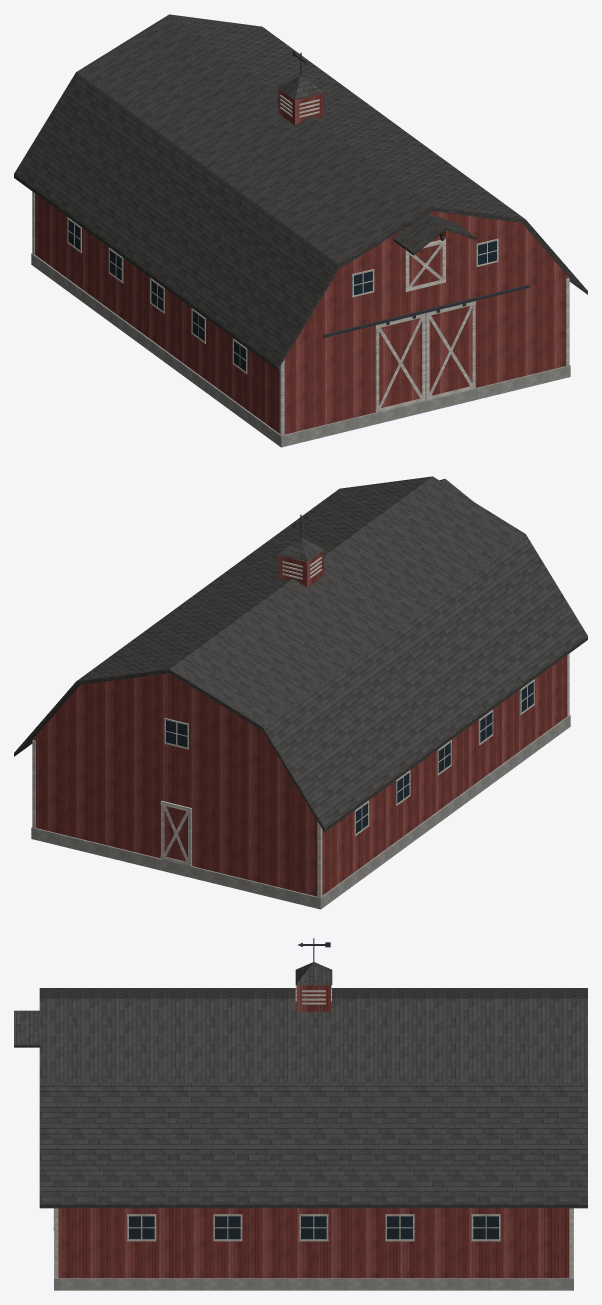
The model's file is gambrel-barn.glb.
3 views of the same model, one above another, from view 1: azimuth 30°, elevation 25°; view 2: azimuth 150°, elevation 25°; view 3: azimuth 270°, elevation 25° (orthographic). The views are drawn at different scales.
Visible parts, largest first — view 1: Barn; view 2: Barn; view 3: Barn.
Part boxes in pixels (box(x1,y1,x2,y2)): Barn: box(14, 14, 587, 447); Barn: box(14, 476, 587, 909); Barn: box(14, 938, 587, 1290).
Size of the model in its own units: 13 by 10.72 by 20.
Materials: 7 (5 with a texture image).
